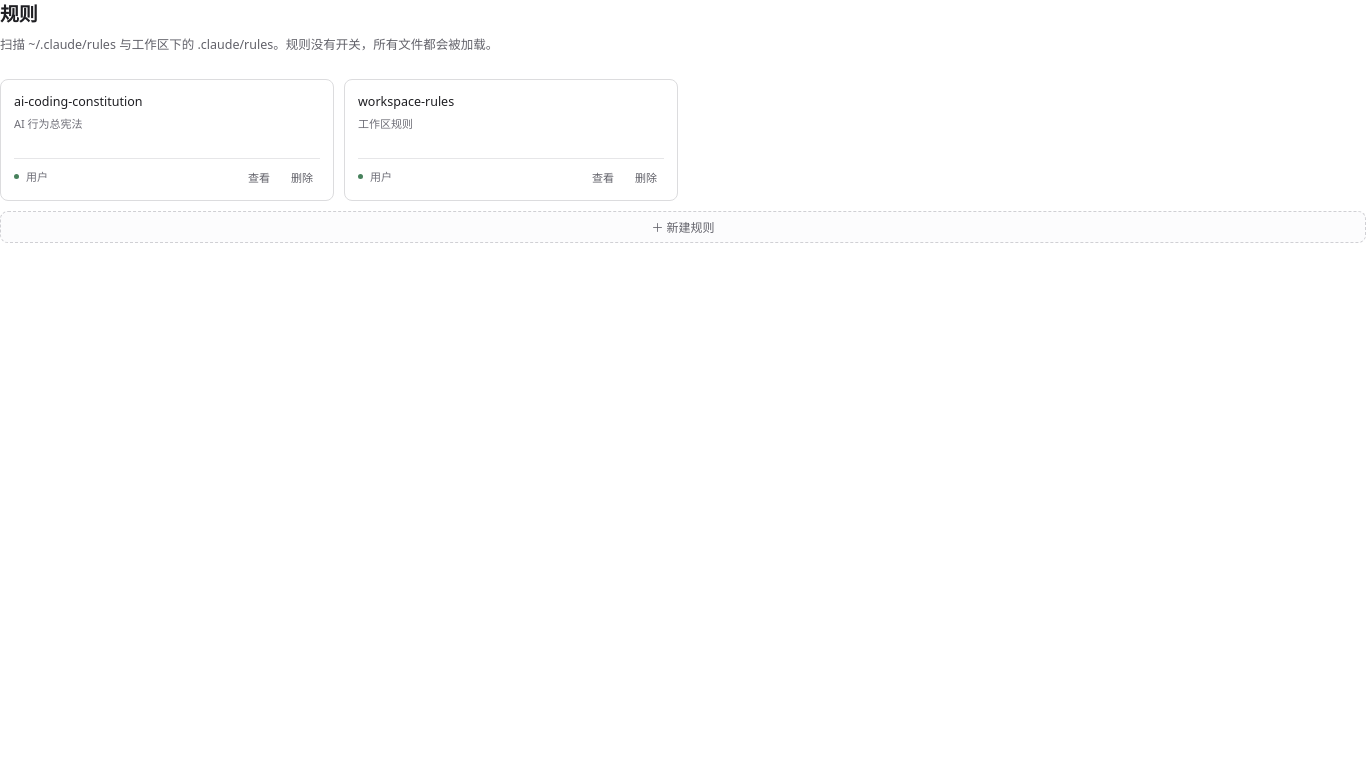
Test: 规则分区 › 删除前要求二次确认
Click the button with class "mini" below "AI 行为总宪法": [302, 177] box [284, 167, 320, 187]
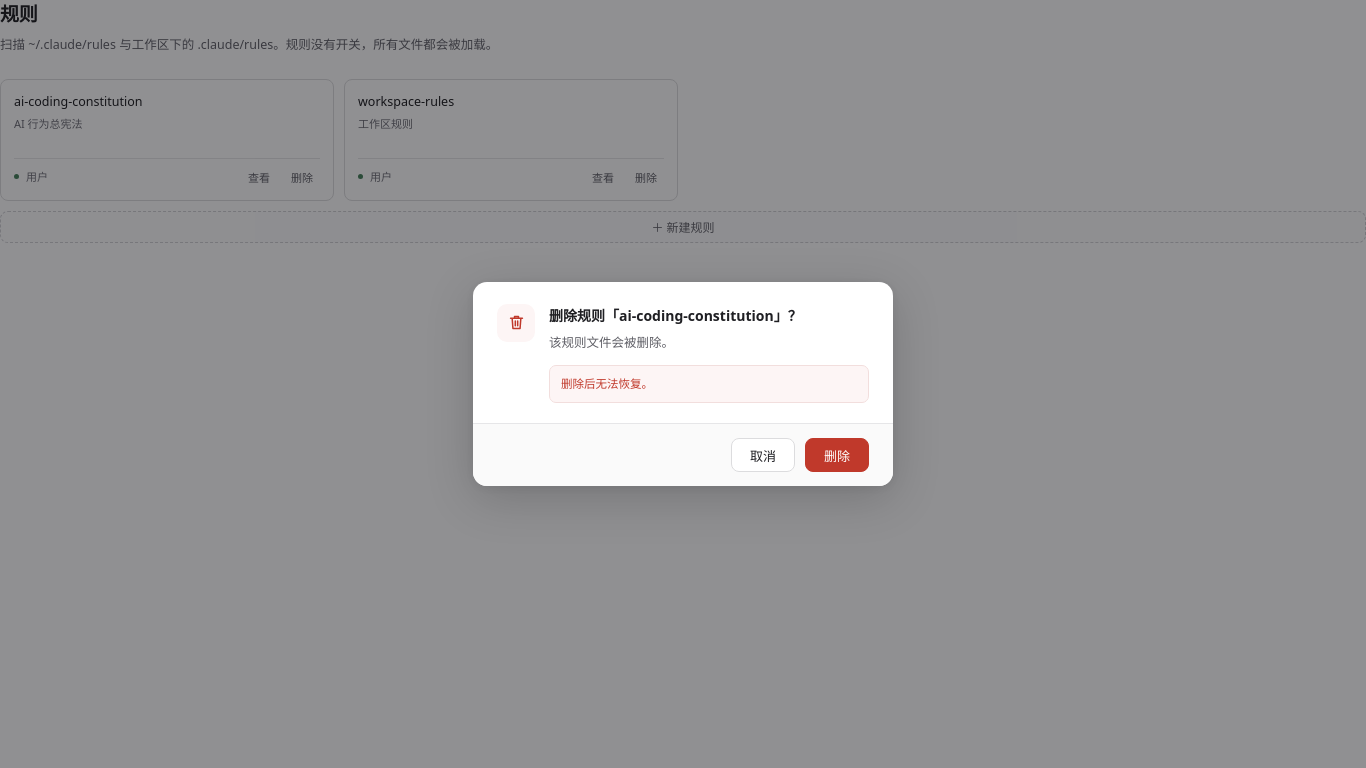
expect the text "删除规则" is shown: met, box [549, 306, 802, 325]
